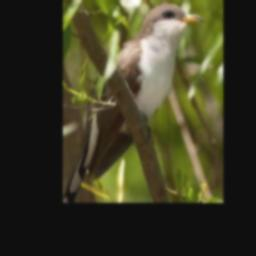Cuckoo: (63, 2, 204, 203)
